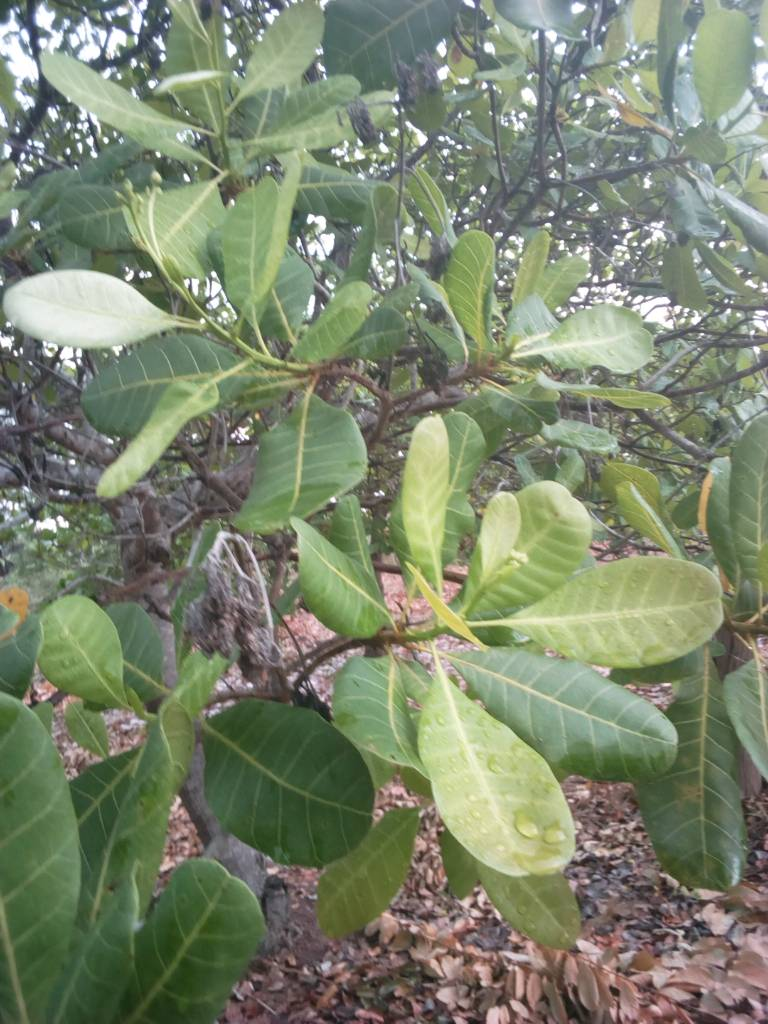Dessèchement des bourgeons: (188, 536, 285, 672)
